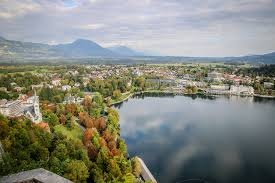forest: (4, 64, 127, 179)
lake: (123, 91, 268, 183)
mountain: (6, 40, 146, 62)
sky: (5, 2, 275, 57)
